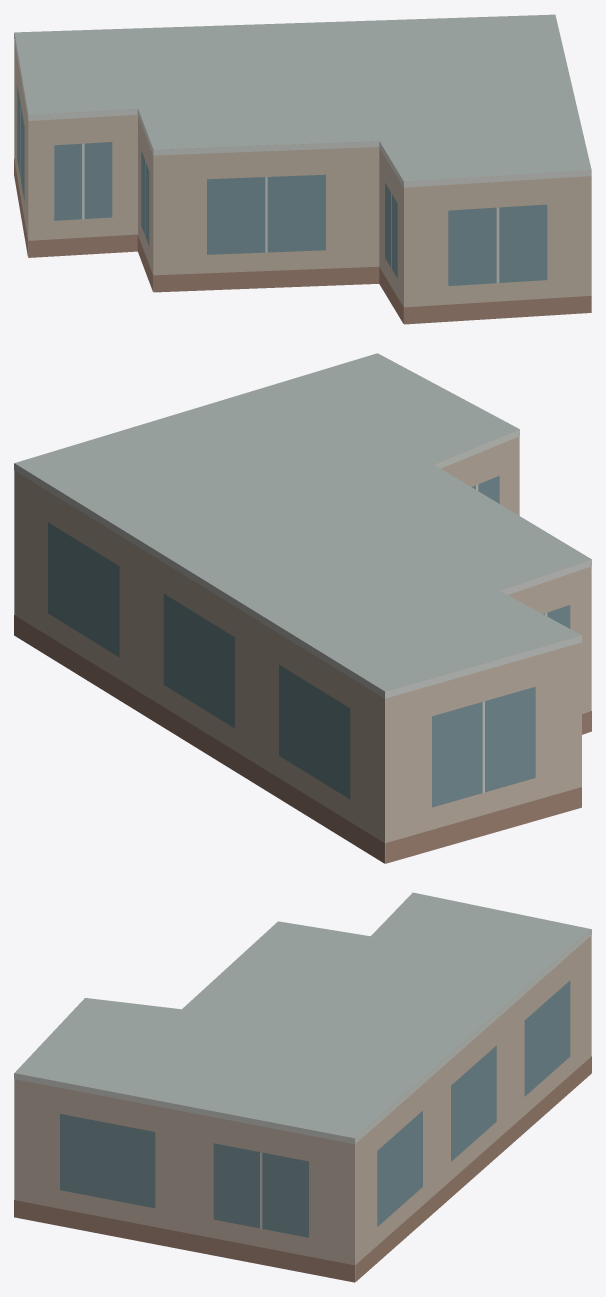
Rendered from survey-upis-32648438.glb.
The picture shows the model from 3 angles, top to bottom: view 1: azimuth 30°, elevation 25°; view 2: azimuth 150°, elevation 25°; view 3: azimuth 270°, elevation 25°; orthographic projection. The views are drawn at different scales.
Parts seen in each view (by area): view 1: survey-upis-32648438.tmp; view 2: survey-upis-32648438.tmp; view 3: survey-upis-32648438.tmp.
Part boxes in pixels (x1=…): survey-upis-32648438.tmp: x1=14, y1=14, x2=591, y2=324; survey-upis-32648438.tmp: x1=14, y1=353, x2=591, y2=863; survey-upis-32648438.tmp: x1=14, y1=892, x2=591, y2=1282.
Size of the model in its own units: 11.17 by 3.05 by 11.09.
